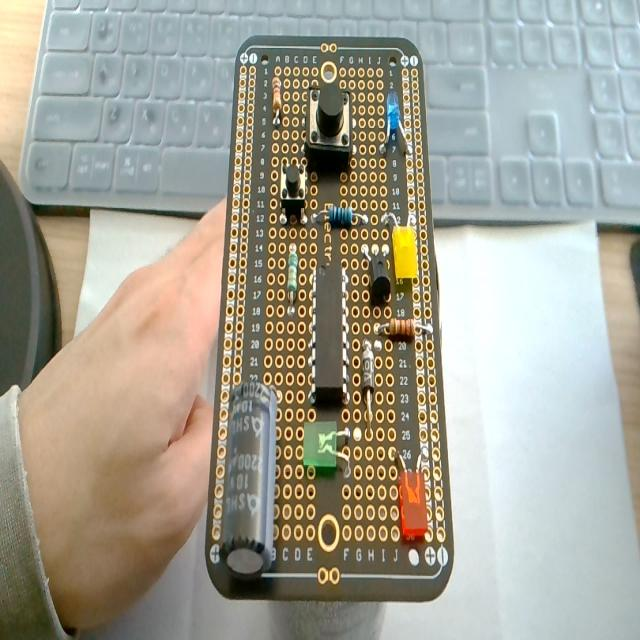Electrolytic capacitor: (221, 381, 279, 577)
IC: (307, 264, 353, 407)
diode: (360, 337, 374, 429)
led: (298, 417, 354, 478), (396, 444, 431, 539), (384, 211, 419, 290), (381, 89, 411, 154), (392, 225, 418, 283)
resistor: (310, 204, 368, 227), (376, 318, 430, 339), (286, 249, 299, 311), (329, 205, 353, 228), (271, 76, 282, 123)
switch: (306, 75, 353, 166), (280, 162, 306, 218)
transistor: (359, 239, 396, 301)
